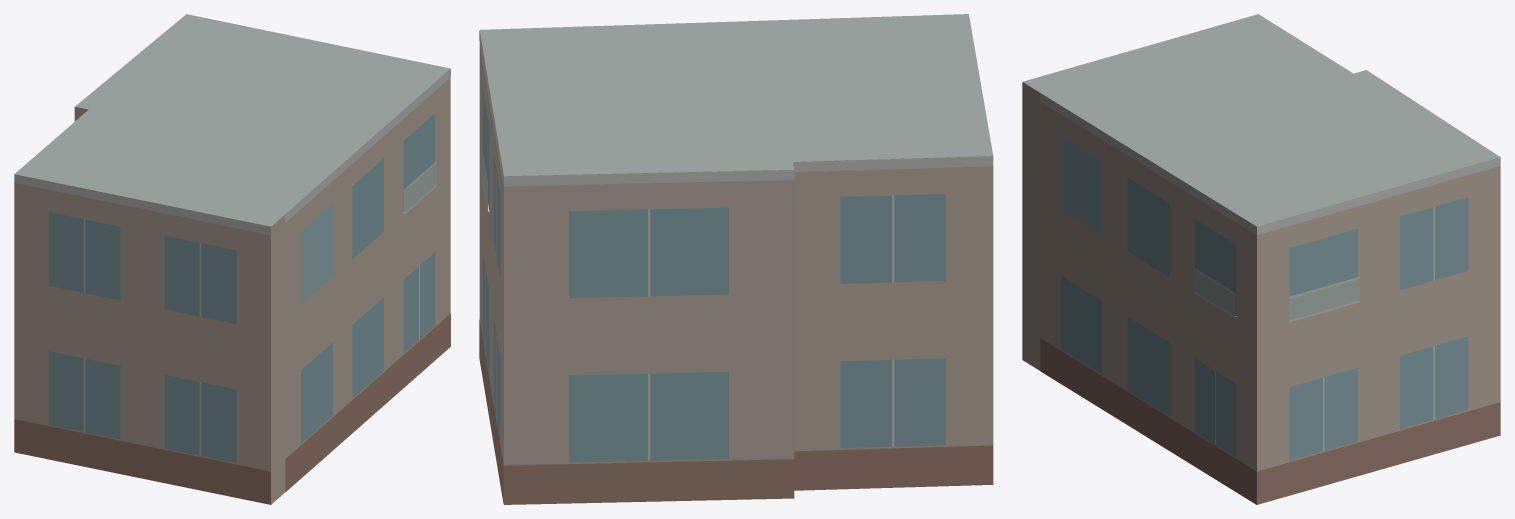
File: survey-upis-32730968.glb
3 renders of one model, left to right at view 1: azimuth 30°, elevation 25°; view 2: azimuth 150°, elevation 25°; view 3: azimuth 270°, elevation 25°, orthographic. The views are drawn at different scales.
Visible parts, largest first — view 1: survey-upis-32730968.tmp; view 2: survey-upis-32730968.tmp; view 3: survey-upis-32730968.tmp.
Part boxes in pixels (<box>): survey-upis-32730968.tmp: <box>14,14,450,504</box>; survey-upis-32730968.tmp: <box>479,14,993,504</box>; survey-upis-32730968.tmp: <box>1022,14,1500,504</box>.
Bounding box in the file's own units: 12.87 × 7.85 × 12.24.
